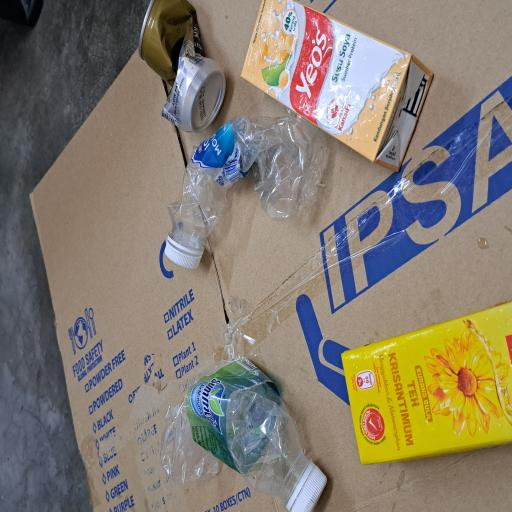can: (284, 185, 384, 302)
cardboard: (0, 37, 384, 512)
drink carton: (256, 320, 384, 512), (33, 455, 156, 512)
plastic bottle: (0, 215, 117, 436), (181, 216, 297, 438)
plastic bottle cap: (0, 380, 37, 439), (178, 214, 208, 270)
